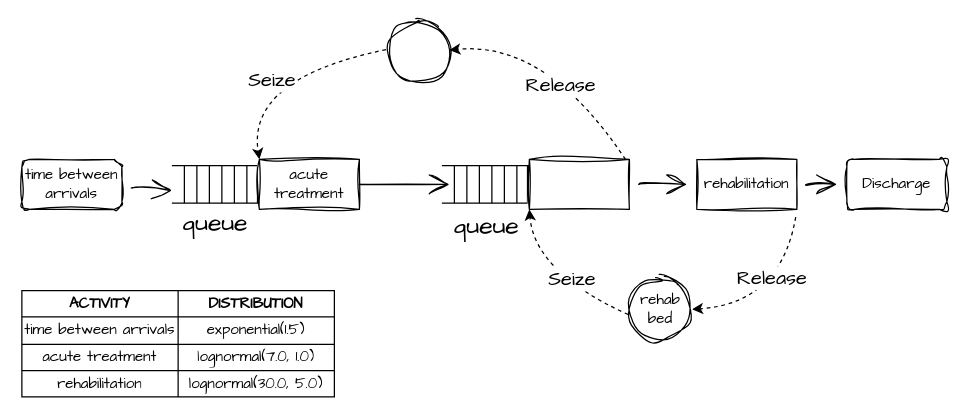
This 969x419 diagram has some shape labels left out. Each missing label, with the centre of its shape:
acute bed: the point at 417,52
transfer to rehab: the point at 578,183
